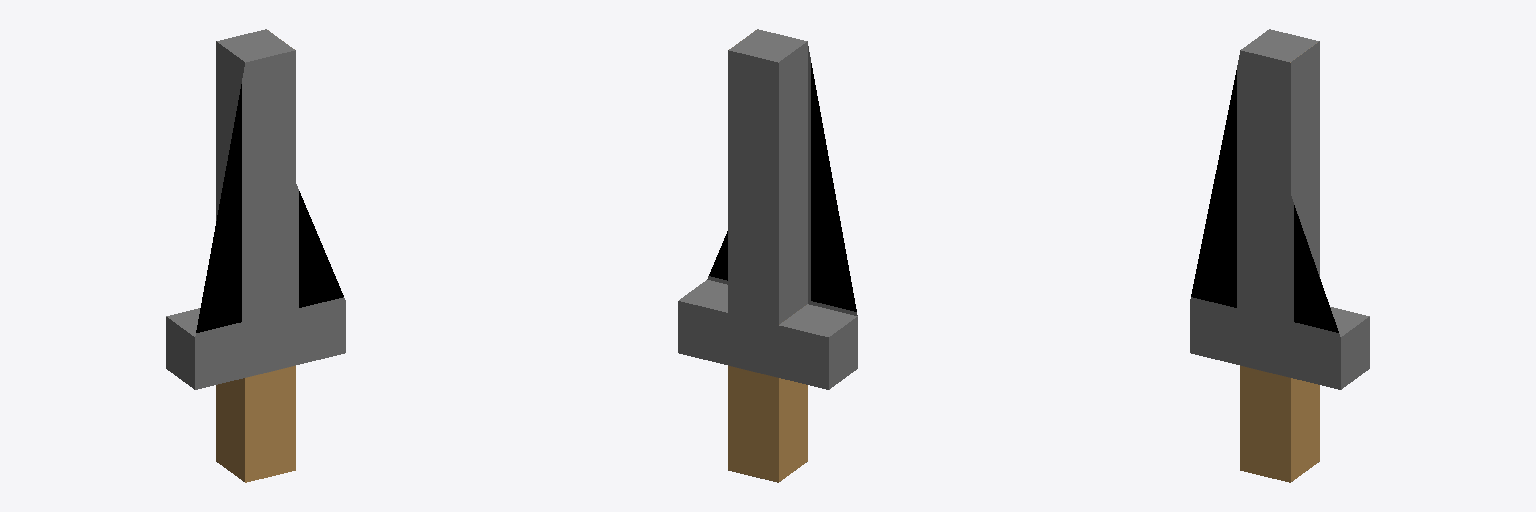
3 renders of one model, left to right at view 1: azimuth 30°, elevation 25°; view 2: azimuth 150°, elevation 25°; view 3: azimuth 330°, elevation 25°, orthographic.
Visible parts, largest first — view 1: Sword_1_Sword_1.001; view 2: Sword_1_Sword_1.001; view 3: Sword_1_Sword_1.001.
Part boxes in pixels (bbox=[...]): Sword_1_Sword_1.001: bbox=[166, 29, 345, 482]; Sword_1_Sword_1.001: bbox=[678, 29, 857, 482]; Sword_1_Sword_1.001: bbox=[1190, 29, 1369, 482].
Size of the model in its own units: 0.3 by 0.8 by 0.1.
Materials: 1 (1 with a texture image).